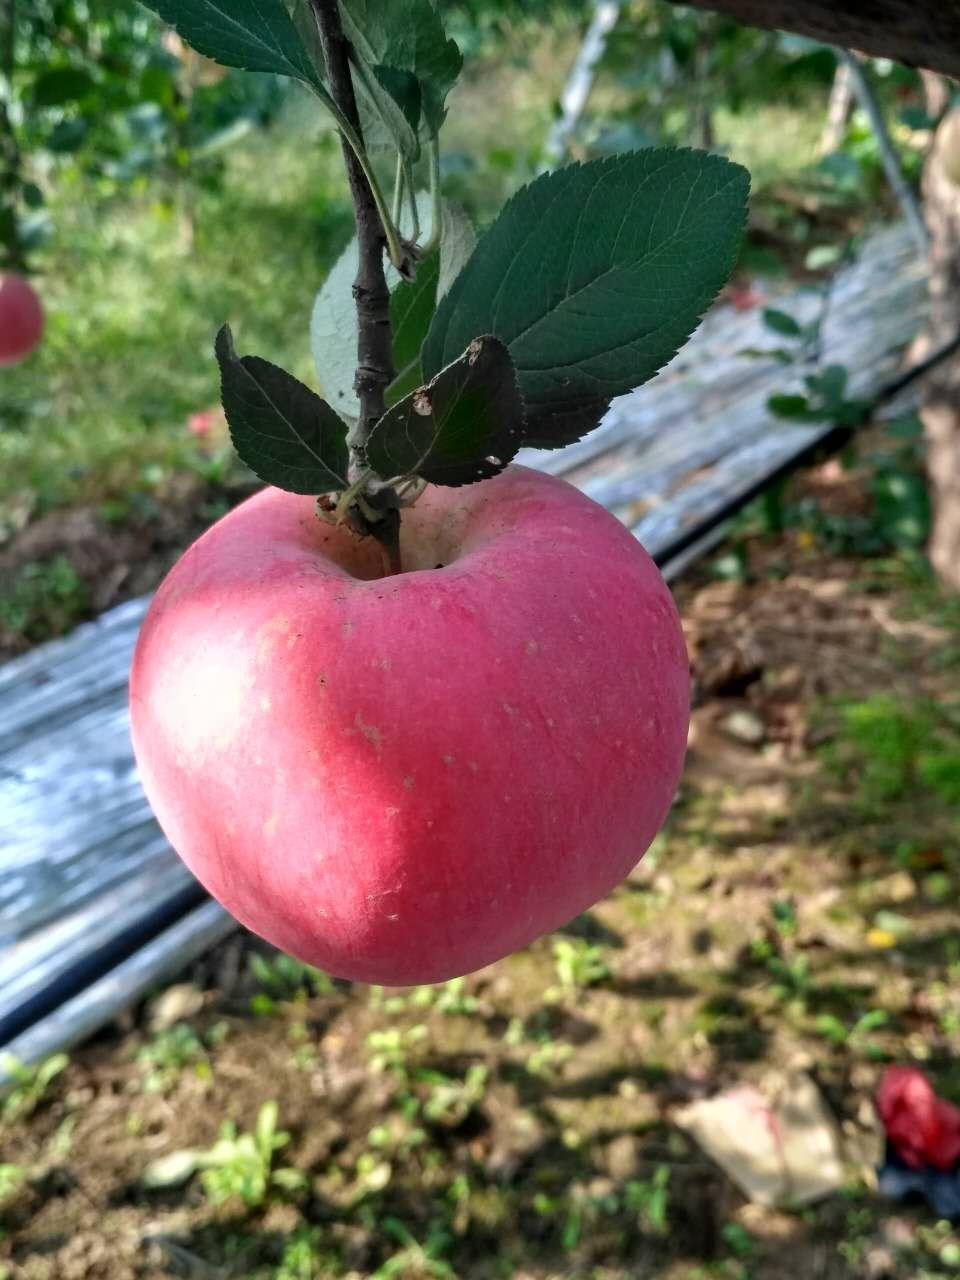apple: (127, 445, 694, 968)
